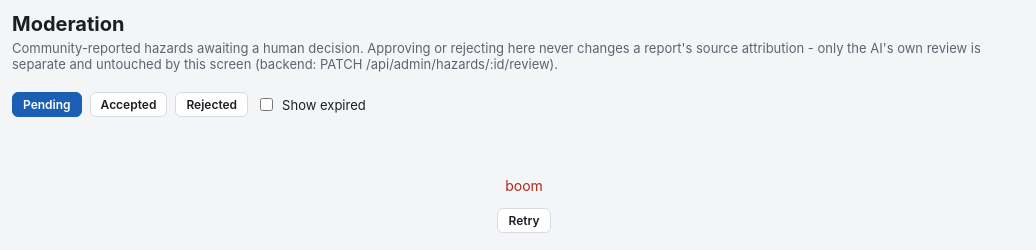
Scenario: ModerationPage › shows an error state on a failed fetch, with a working retry
The width and height of the screenshot is (1036, 250).
expect the message "boom Retry" is shown: met, box [498, 177, 550, 233]
Click the button "Retry" at (524, 220), box [498, 208, 550, 233]
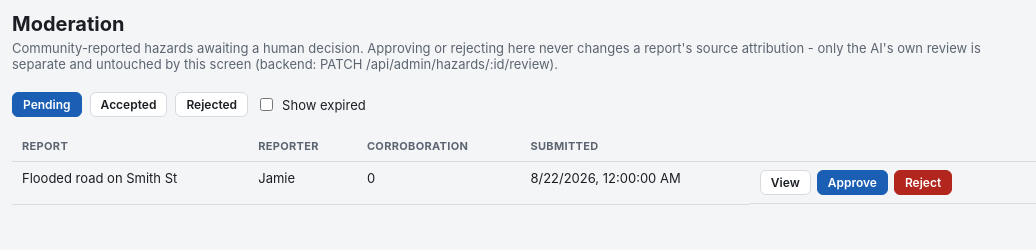
expect the text "Flooded road on Smith St" is shown: met, box [12, 162, 248, 204]
